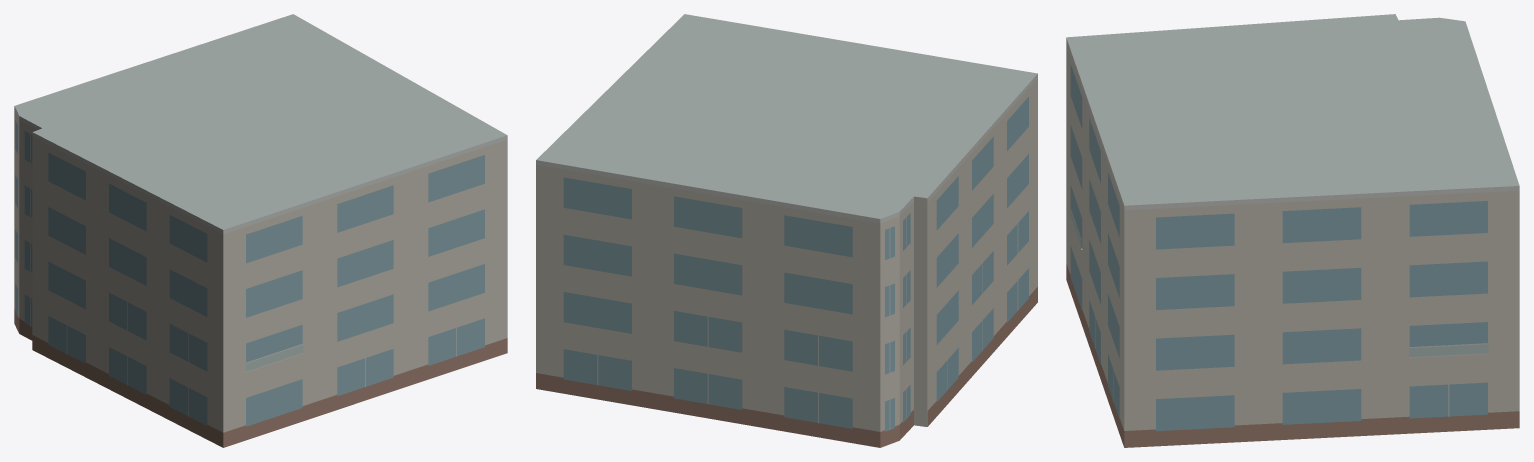
File: survey-upis-32576122.glb
The picture shows the model from 3 angles, left to right: view 1: azimuth 30°, elevation 25°; view 2: azimuth 150°, elevation 25°; view 3: azimuth 270°, elevation 25°; orthographic projection. The views are drawn at different scales.
Parts seen in each view (by area): view 1: survey-upis-32576122.tmp; view 2: survey-upis-32576122.tmp; view 3: survey-upis-32576122.tmp.
Part boxes in pixels (bbox=[...]): survey-upis-32576122.tmp: bbox=[14, 14, 507, 447]; survey-upis-32576122.tmp: bbox=[536, 14, 1037, 447]; survey-upis-32576122.tmp: bbox=[1066, 14, 1519, 447].
Size of the model in its own units: 21.04 by 12.4 by 21.04.
